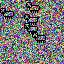sheep: (31, 31, 46, 44), (26, 2, 40, 13), (24, 14, 38, 25), (0, 8, 14, 19), (24, 23, 38, 34)
